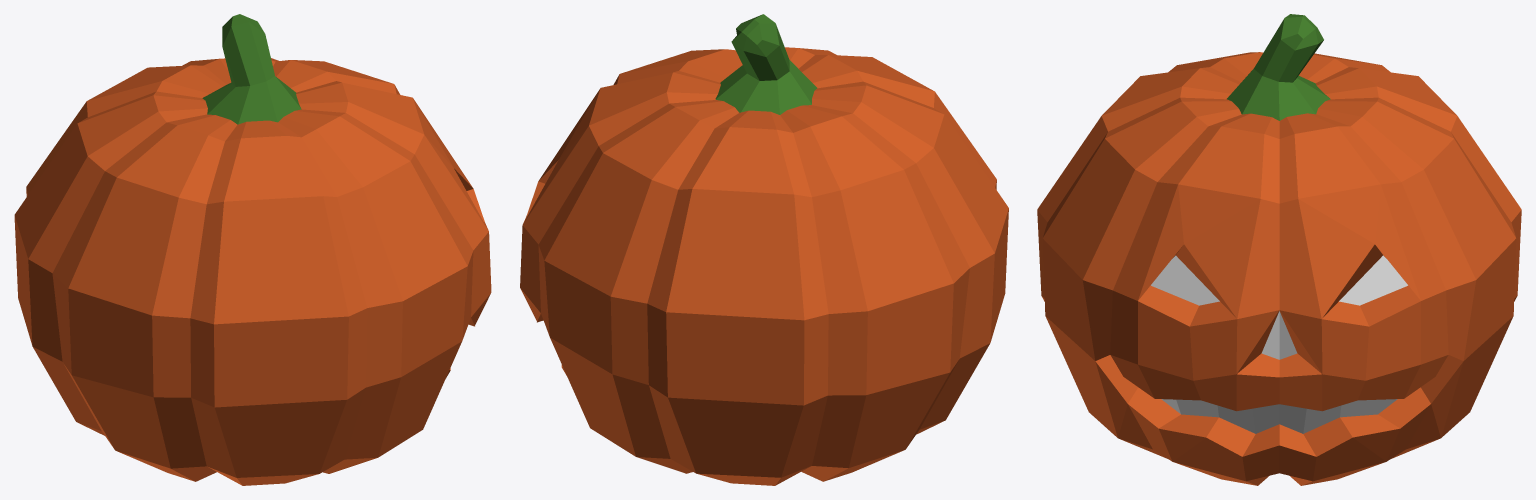
File: Pumpkin.fbx
The picture shows the model from 3 angles, left to right: view 1: azimuth 30°, elevation 25°; view 2: azimuth 150°, elevation 25°; view 3: azimuth 270°, elevation 25°; orthographic projection. The views are drawn at different scales.
Visible parts, largest first — view 1: pumkin-helloween.001; view 2: pumkin-helloween.001; view 3: pumkin-helloween.001.
Boxes of the visible parts, x1=… form: pumkin-helloween.001: x1=14, y1=14, x2=491, y2=485; pumkin-helloween.001: x1=520, y1=14, x2=1008, y2=485; pumkin-helloween.001: x1=1037, y1=14, x2=1521, y2=485.
Size of the model in its own units: 125 by 123 by 128.
